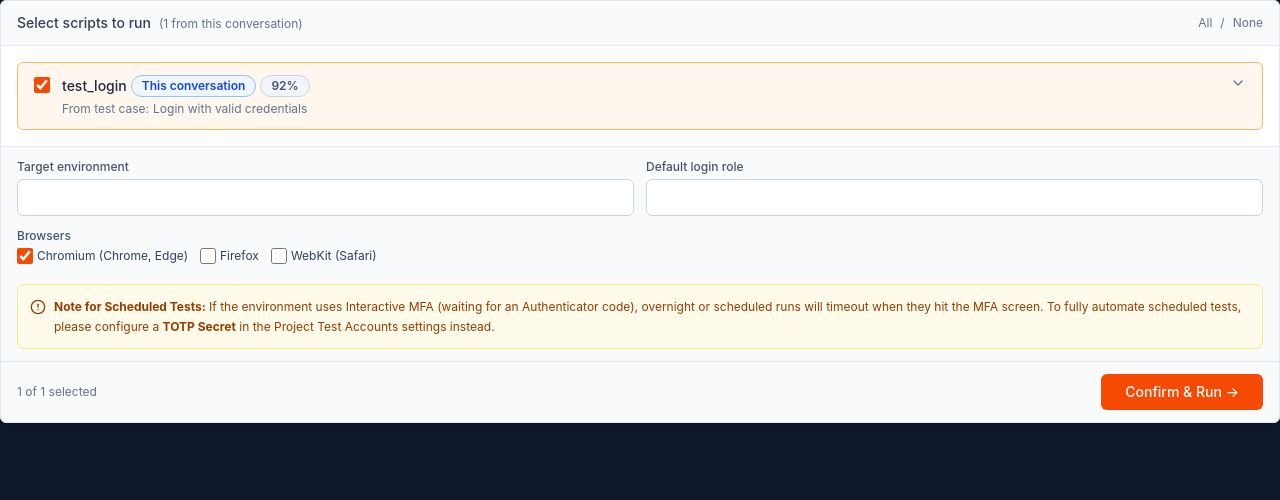
Test: JackInputSelection › Rendering › expands/collapses the .py preview
Click the button named "Show preview". click: click(1238, 83)
box: [1230,75,1246,91]
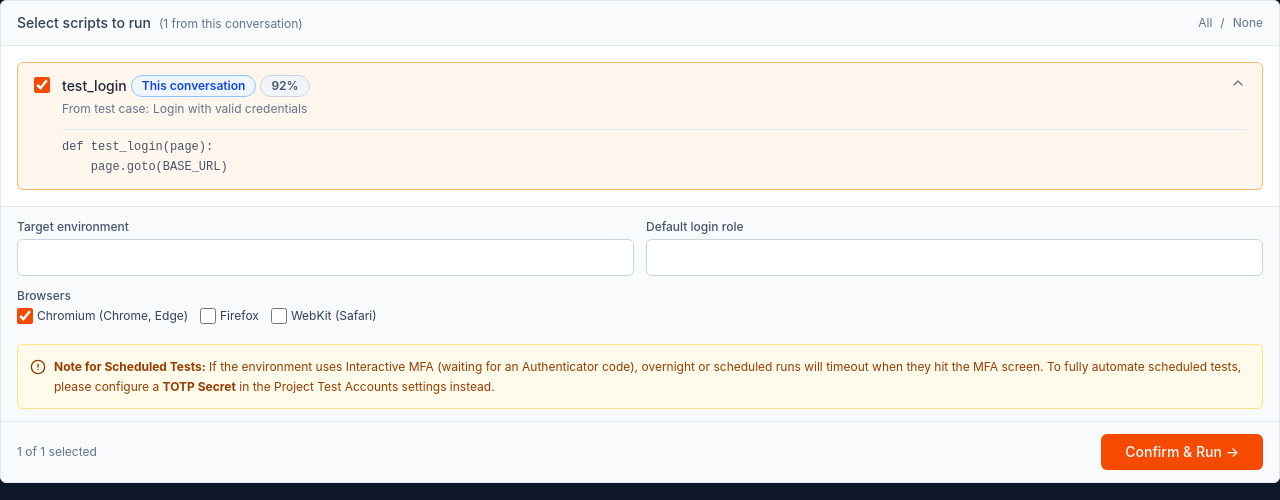
Check: the text "def test_login(page): page.goto(BASE_URL)" is shown, box [62,129,1246,177]
Click the button named "Hide preview". click: click(1238, 83)
box: [1230,75,1246,91]
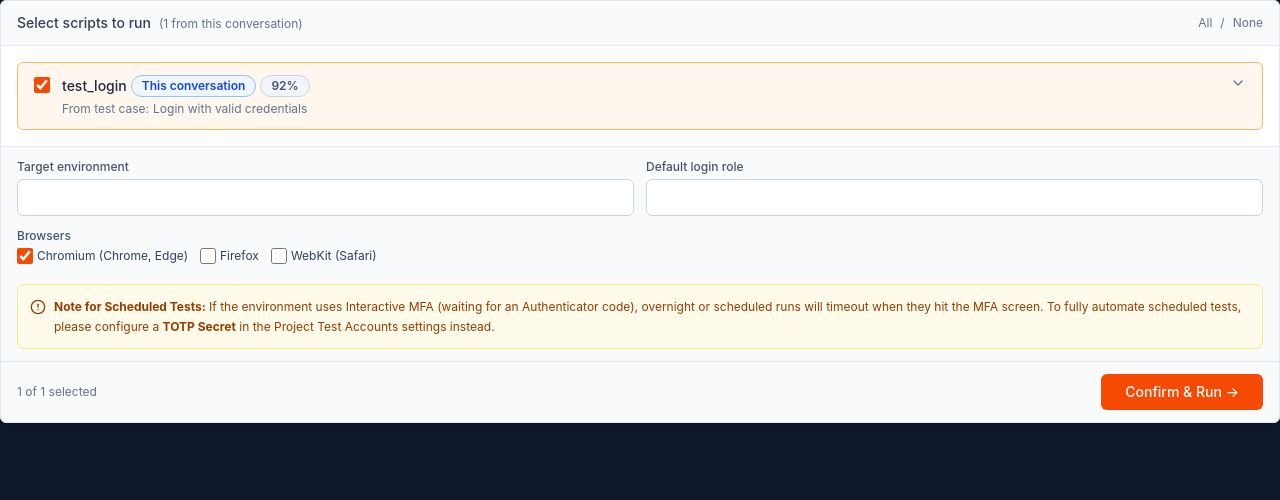
Check: the text "page.goto(BASE_URL)" is gone
